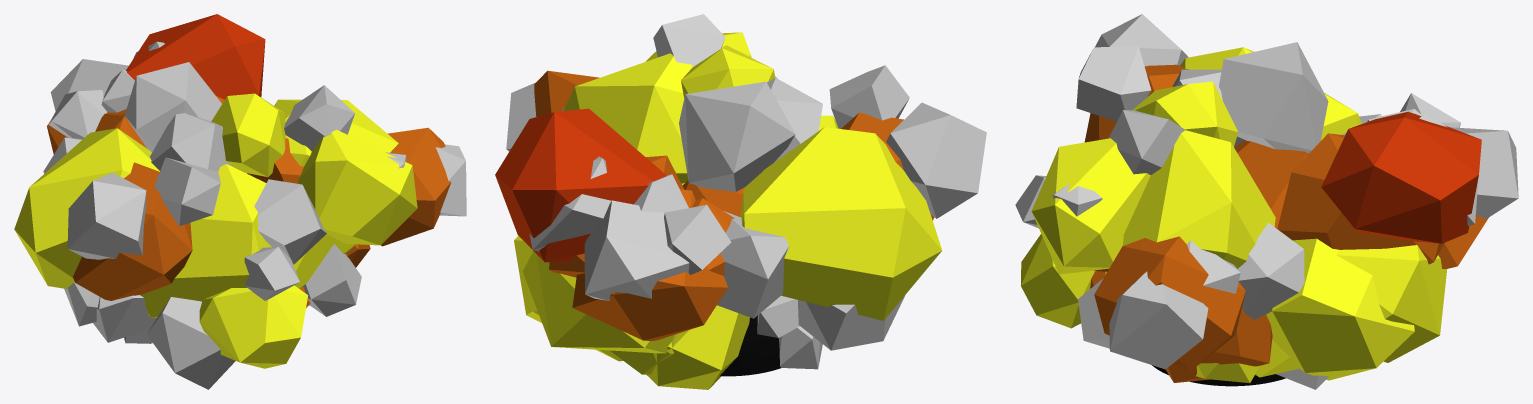
File: Explosion0008.obj
The picture shows the model from 3 angles, left to right: view 1: azimuth 30°, elevation 25°; view 2: azimuth 150°, elevation 25°; view 3: azimuth 270°, elevation 25°; orthographic projection. The views are drawn at different scales.
Parts seen in each view (by area): view 1: Cube_Material, Cube.002_Material.003, Cube.001_Material.002, Cube.003_Material.004; view 2: Cube_Material, Cube.002_Material.003, Cube.003_Material.004, Cube.001_Material.002, Circle_Material.001; view 3: Cube.002_Material.003, Cube_Material, Cube.001_Material.002, Cube.003_Material.004, Circle_Material.001.
Part boxes in pixels (x1,y1,x2,y2): Cube_Material: (43,41,466,389); Cube.002_Material.003: (14,93,417,368); Cube.001_Material.002: (47,96,451,307); Cube.003_Material.004: (126,14,265,99); Cube_Material: (506,14,986,369); Cube.002_Material.003: (514,32,942,389); Cube.003_Material.004: (495,108,666,262); Cube.001_Material.002: (534,70,934,340); Circle_Material.001: (720,315,780,376); Cube.002_Material.003: (1021,47,1447,383); Cube_Material: (1015,14,1518,389); Cube.001_Material.002: (1084,64,1488,382); Cube.003_Material.004: (1321,111,1481,243); Circle_Material.001: (1152,365,1285,386).
Size of the model in its own units: 6.04 by 3.75 by 5.61.
